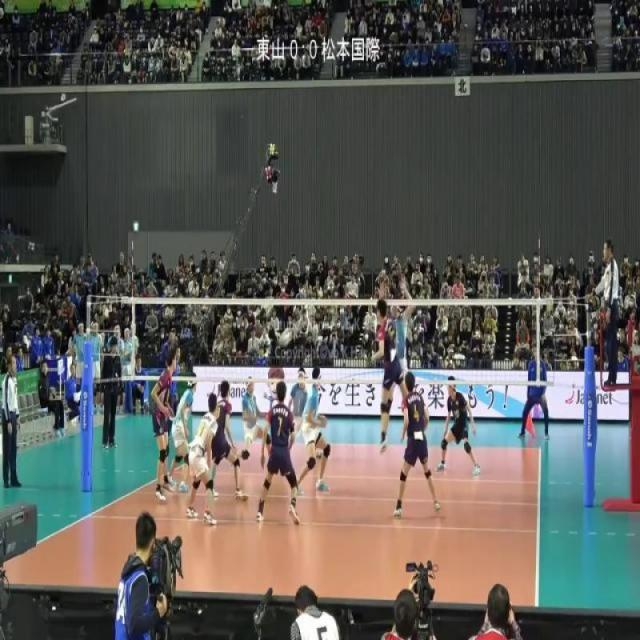volleyball: (278, 326, 293, 348)
